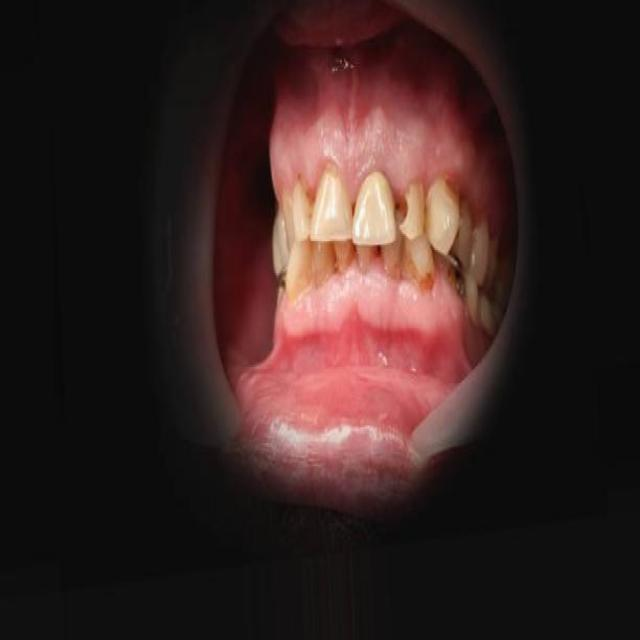caries: (379, 241, 439, 295), (390, 175, 423, 244), (442, 250, 474, 306), (452, 189, 474, 262)
